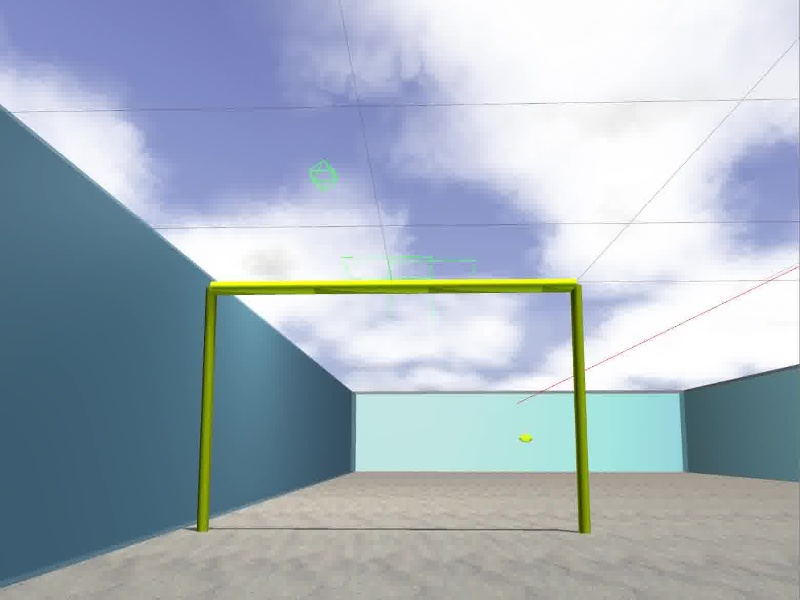gate: (199, 281, 589, 533)
